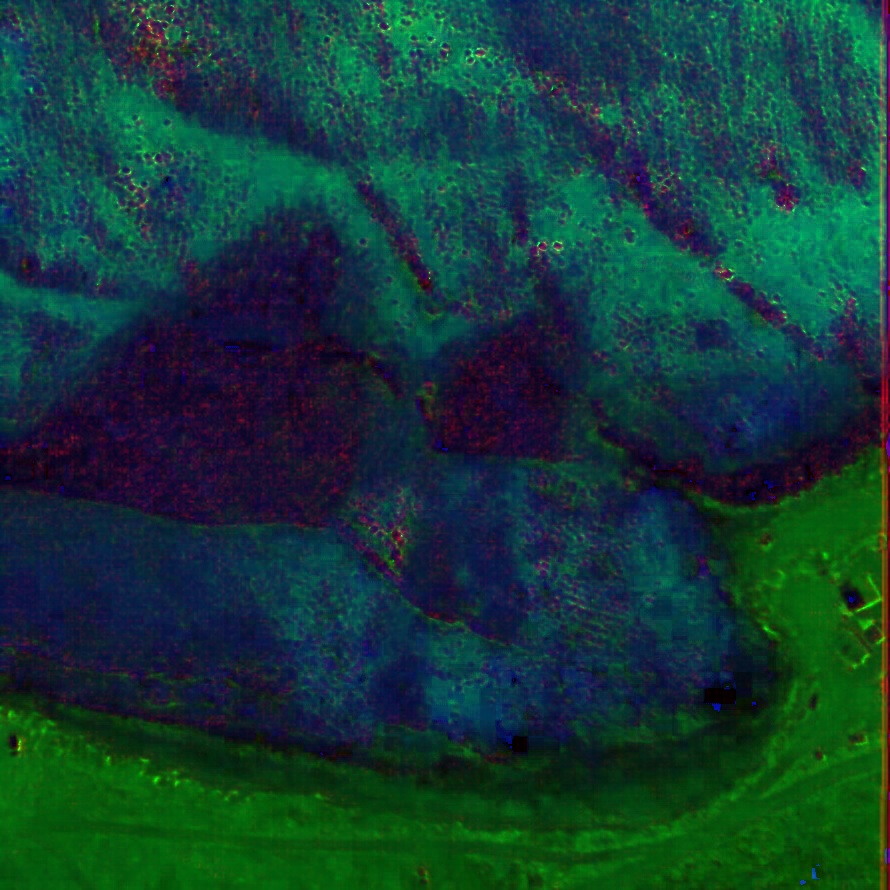rip_current: (285, 154, 495, 662)
